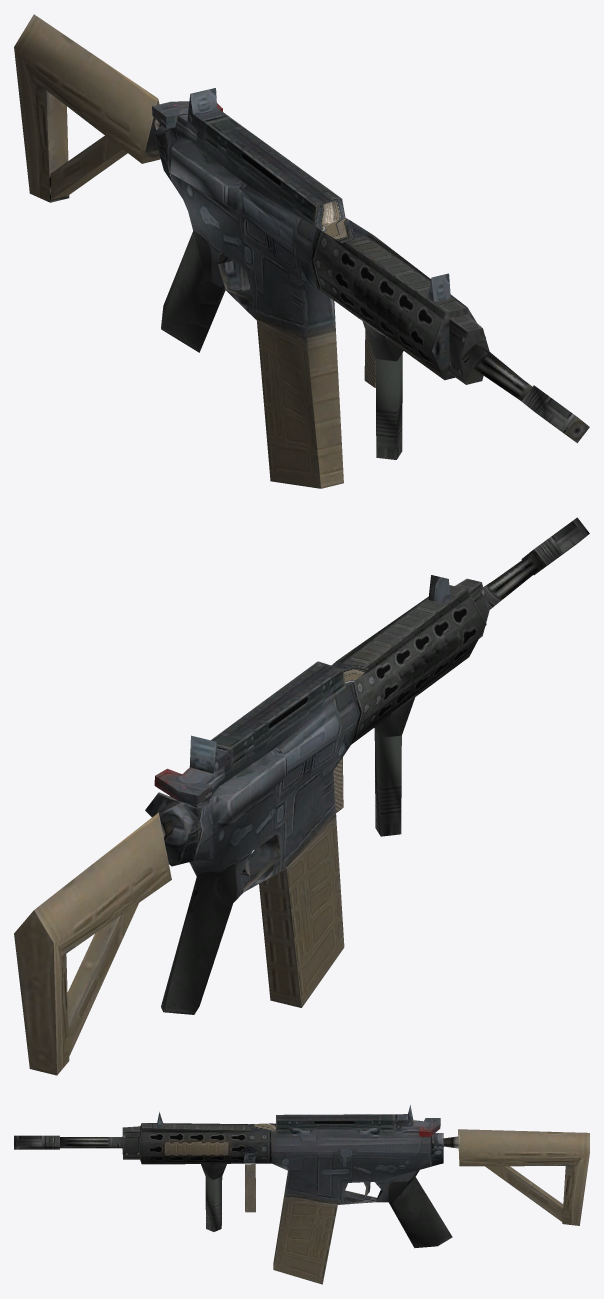
Rendered from Assault_Rifle_bq_qs_01_lod2_Body_LOD_(000857).glb.
3 renders of one model, top to bottom at view 1: azimuth 30°, elevation 25°; view 2: azimuth 150°, elevation 25°; view 3: azimuth 270°, elevation 25°, orthographic. The views are drawn at different scales.
Visible parts, largest first — view 1: bq_qs_01_lod2; view 2: bq_qs_01_lod2; view 3: bq_qs_01_lod2.
Part boxes in pixels (x1,y1,x2,y2): bq_qs_01_lod2: (14, 14, 589, 488); bq_qs_01_lod2: (14, 517, 589, 1075); bq_qs_01_lod2: (14, 1105, 589, 1284).
Bounding box in the file's own units: 0.0704 × 0.3205 × 0.9676.
1 material, 1 textured.
